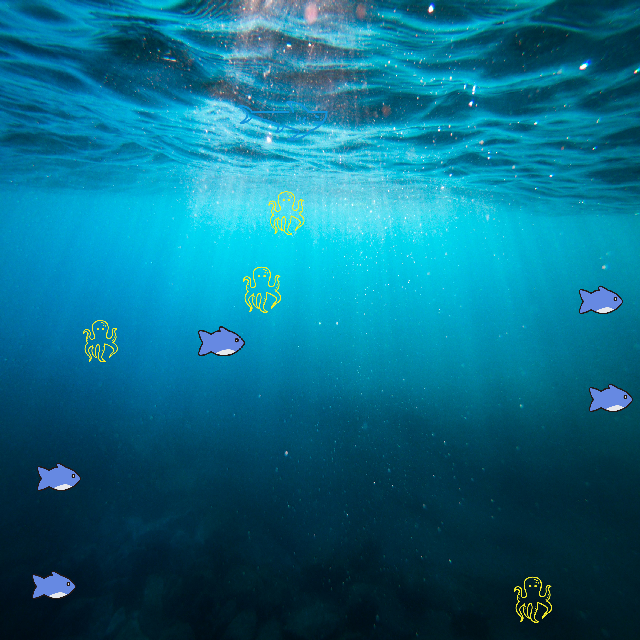target fish: (239, 98, 331, 143)
